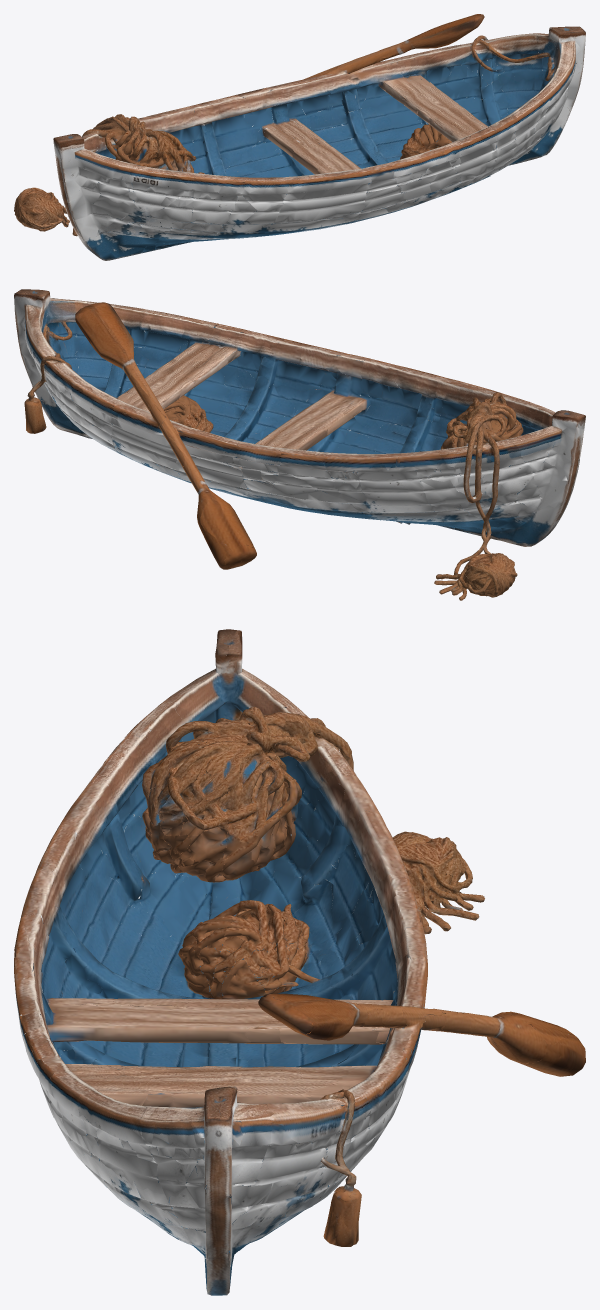
The model's file is barca_pesca_lod0.glb.
3 renders of one model, top to bottom at view 1: azimuth 30°, elevation 25°; view 2: azimuth 150°, elevation 25°; view 3: azimuth 270°, elevation 25°, orthographic. The views are drawn at different scales.
Parts seen in each view (by area): view 1: Mesh_0; view 2: Mesh_0; view 3: Mesh_0.
Boxes of the visible parts, <box> form: Mesh_0: <box>14,14,585,260</box>; Mesh_0: <box>14,289,585,600</box>; Mesh_0: <box>14,629,585,1295</box>.
Size of the model in its own units: 2.77 by 0.7006 by 1.44.
Materials: 1 (1 with a texture image).
